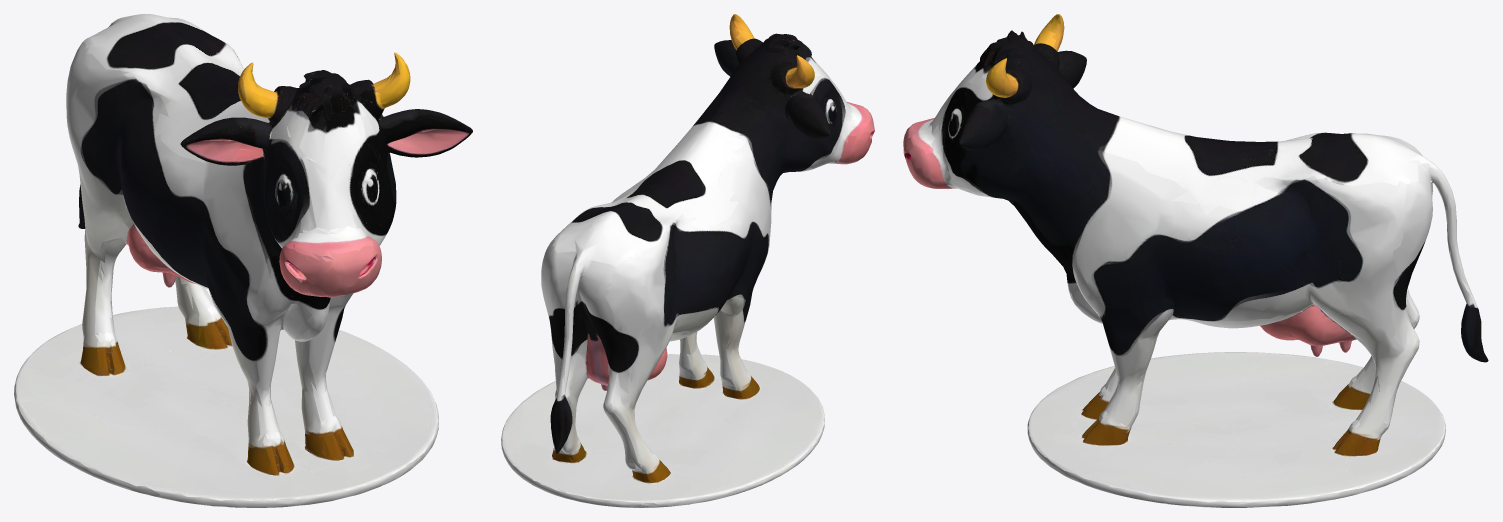
The model's file is char_cow.glb.
3 views of the same model, side by side, from view 1: azimuth 30°, elevation 25°; view 2: azimuth 150°, elevation 25°; view 3: azimuth 270°, elevation 25° (orthographic). The views are drawn at different scales.
Size of the model in its own units: 1.15 by 1.4 by 1.9.
Materials: 1 (1 with a texture image).
